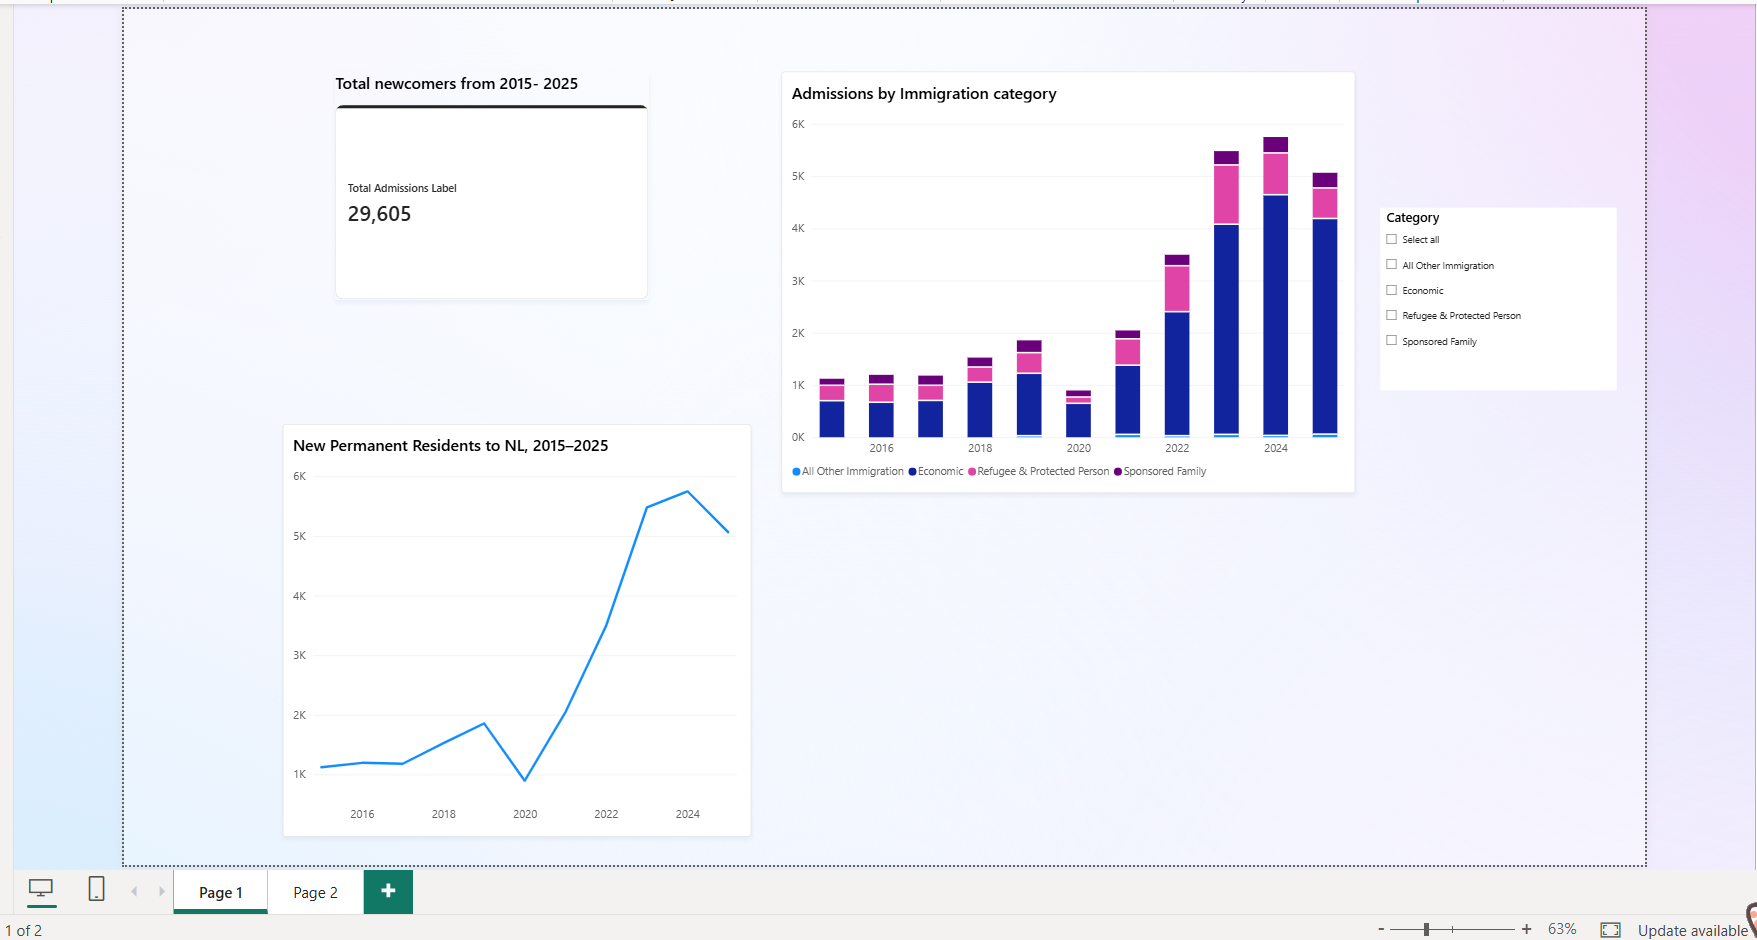

The page's visual inventory and layout, read from the dashboard file:
{"tool":"powerbi","page":{"name":"Page 1","canvas":[1920,1080],"ordinal":0},"visuals":[{"type":"cardVisual","title":"Total newcomers from 2015- 2025","fields":{"Data":["NL Admissions.Total Admissions Label"]},"box":[266.9,78.5,395.9,287.8],"z":0},{"type":"lineChart","title":"New Permanent Residents to NL, 2015–2025","fields":{"Category":["NL Admissions.Year"],"Y":["NL Admissions.Total Admissions"]},"box":[200.5,523,591.2,520.9],"z":1000},{"type":"slicer","fields":{"Values":["NL Admissions.Category"]},"box":[1585.5,250.1,298.3,230.2],"z":2000},{"type":"columnChart","title":"Admissions by Immigration category","fields":{"Category":["NL Admissions.Year"],"Series":["NL Admissions.Category"],"Y":["NL Admissions.Total Admissions"]},"box":[828.9,78.6,723.8,532],"z":3000}]}

Visuals, with their boxes on the page's 1920x1080 design canvas (x1, y1, x2, y2). These are canvas units, not pixel positions in the 1757x940 screenshot, which may show the page scaled, cropped or inside an application window:
"Total newcomers from 2015- 2025" cardVisual: pyautogui.locateOnScreen(267, 78, 663, 366)
"New Permanent Residents to NL, 2015–2025" lineChart: pyautogui.locateOnScreen(200, 523, 792, 1044)
slicer - NL Admissions.Category: pyautogui.locateOnScreen(1586, 250, 1884, 480)
"Admissions by Immigration category" columnChart: pyautogui.locateOnScreen(829, 79, 1553, 611)
